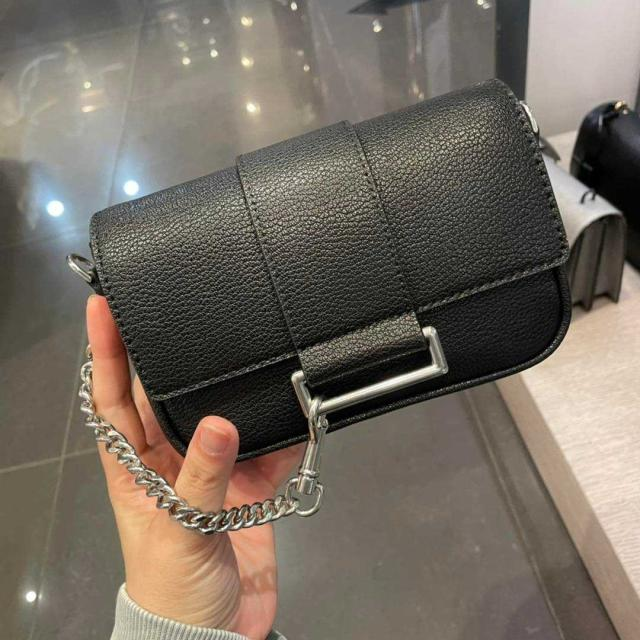Handbag: (46, 76, 588, 473)
